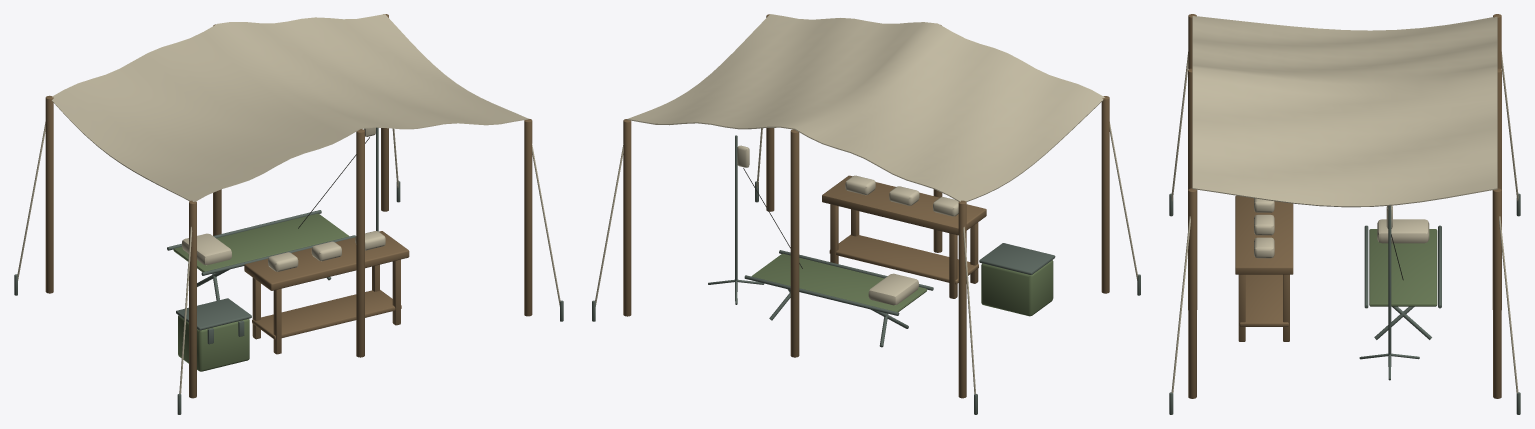
Rendered from FieldClinic08.fbx.
3 renders of one model, left to right at view 1: azimuth 30°, elevation 25°; view 2: azimuth 150°, elevation 25°; view 3: azimuth 270°, elevation 25°, orthographic. The views are drawn at different scales.
Visible parts, largest first — view 1: FieldClinic08; view 2: FieldClinic08; view 3: FieldClinic08.
Part boxes in pixels (x1,y1,x2,y2): FieldClinic08: (14,14,563,414); FieldClinic08: (592,14,1140,414); FieldClinic08: (1169,14,1520,414).
Size of the model in its own units: 529 by 392 by 304.
